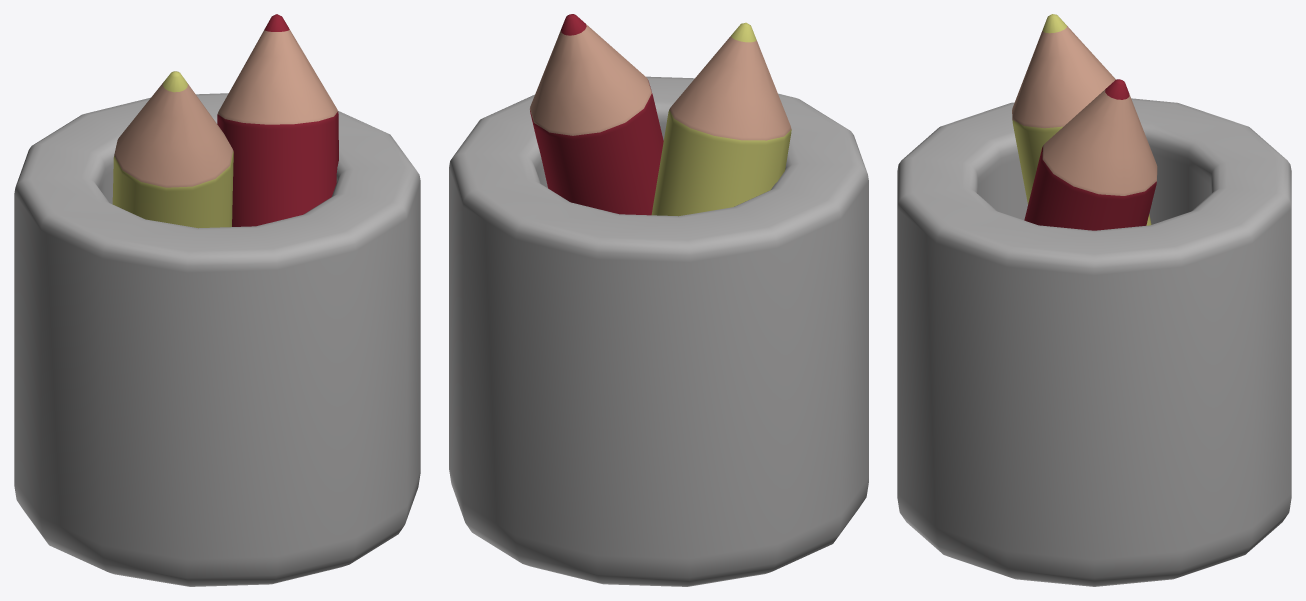
The model's file is Pencils.FBX.
3 renders of one model, left to right at view 1: azimuth 30°, elevation 25°; view 2: azimuth 150°, elevation 25°; view 3: azimuth 270°, elevation 25°, orthographic. The views are drawn at different scales.
Visible parts, largest first — view 1: Pencils; view 2: Pencils; view 3: Pencils.
Boxes of the visible parts, x1,y1,x2,y2 form: Pencils: (14,14,420,586); Pencils: (449,14,868,586); Pencils: (897,14,1291,586).
Bounding box in the file's own units: 4.35 × 5.56 × 4.24.
